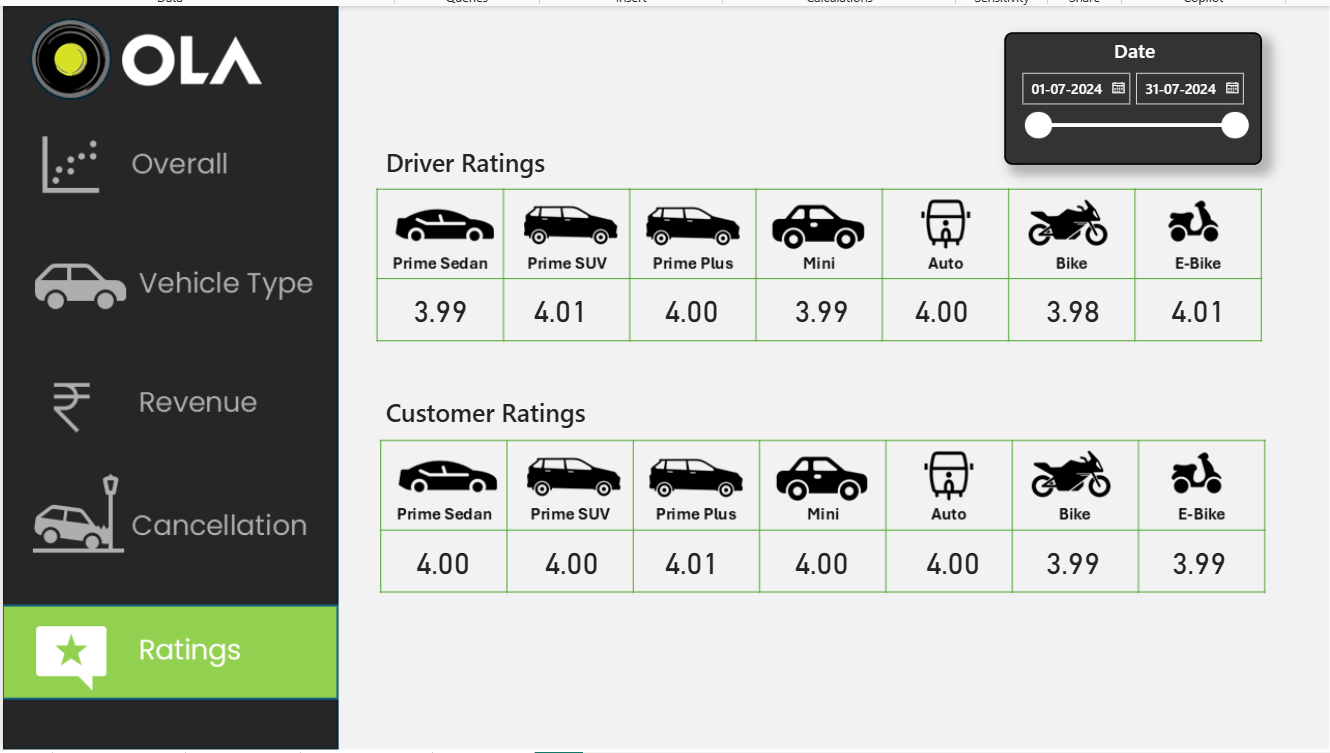

Layout of this report page (visuals, bound fields, positions):
{"tool":"powerbi","page":{"name":"Ratings","canvas":[1280,720],"ordinal":4},"visuals":[{"type":"actionButton","box":[0,577.9,322.1,92.9],"z":0},{"type":"actionButton","box":[0,441.6,322.1,101.3],"z":1000},{"type":"actionButton","box":[0,336.6,322.1,92.9],"z":2000},{"type":"actionButton","box":[1.2,216,322.1,92.9],"z":3000},{"type":"actionButton","box":[0,106.2,322.1,92.9],"z":4000},{"type":"card","fields":{"Values":["Avg(July.Driver_Ratings)"]},"box":[364.3,262.9,115.7,60],"z":5000},{"type":"card","fields":{"Values":["Avg(July.Driver_Ratings)"]},"box":[732.9,262.9,115.7,60],"z":6000},{"type":"card","fields":{"Values":["Avg(July.Driver_Ratings)"]},"box":[480,262.9,115.7,60],"z":7000},{"type":"card","fields":{"Values":["Avg(July.Driver_Ratings)"]},"box":[607.1,262.9,115.7,60],"z":8000},{"type":"card","fields":{"Values":["Avg(July.Driver_Ratings)"]},"box":[848.6,262.9,115.7,60],"z":9000},{"type":"card","fields":{"Values":["Avg(July.Driver_Ratings)"]},"box":[974.3,262.9,115.7,60],"z":10000},{"type":"card","fields":{"Values":["Avg(July.Driver_Ratings)"]},"box":[1095.7,262.9,115.7,60],"z":11000},{"type":"card","fields":{"Values":["Avg(July.Customer_Rating)"]},"box":[367.1,507.1,115.7,60],"z":12000},{"type":"card","fields":{"Values":["Avg(July.Customer_Rating)"]},"box":[491.4,507.1,115.7,60],"z":13000},{"type":"card","fields":{"Values":["Avg(July.Customer_Rating)"]},"box":[607.1,507.1,115.7,60],"z":14000},{"type":"card","fields":{"Values":["Avg(July.Customer_Rating)"]},"box":[732.9,507.1,115.7,60],"z":15000},{"type":"card","fields":{"Values":["Avg(July.Customer_Rating)"]},"box":[858.6,507.1,115.7,60],"z":16000},{"type":"card","fields":{"Values":["Avg(July.Customer_Rating)"]},"box":[974.3,507.1,115.7,60],"z":17000},{"type":"card","fields":{"Values":["Avg(July.Customer_Rating)"]},"box":[1097.1,507.1,115.7,60],"z":18000},{"type":"textbox","box":[364.3,130,167.1,47.1],"z":19000},{"type":"textbox","box":[364.3,371.4,224.3,47.1],"z":20000},{"type":"slicer","title":"Date","fields":{"Values":["July.Date"]},"box":[1018.2,25.3,248.5,127.9],"z":21000}]}

Visuals, with their boxes on the page's 1280x720 design canvas (x1, y1, x2, y2). These are canvas units, not pixel positions in the 1330x753 screenshot, which may show the page scaled, cropped or inside an application window:
actionButton: region(0, 578, 322, 671)
actionButton: region(0, 442, 322, 543)
actionButton: region(0, 337, 322, 430)
actionButton: region(1, 216, 323, 309)
actionButton: region(0, 106, 322, 199)
card - Avg(July.Driver_Ratings): region(364, 263, 480, 323)
card - Avg(July.Driver_Ratings): region(733, 263, 849, 323)
card - Avg(July.Driver_Ratings): region(480, 263, 596, 323)
card - Avg(July.Driver_Ratings): region(607, 263, 723, 323)
card - Avg(July.Driver_Ratings): region(849, 263, 964, 323)
card - Avg(July.Driver_Ratings): region(974, 263, 1090, 323)
card - Avg(July.Driver_Ratings): region(1096, 263, 1211, 323)
card - Avg(July.Customer_Rating): region(367, 507, 483, 567)
card - Avg(July.Customer_Rating): region(491, 507, 607, 567)
card - Avg(July.Customer_Rating): region(607, 507, 723, 567)
card - Avg(July.Customer_Rating): region(733, 507, 849, 567)
card - Avg(July.Customer_Rating): region(859, 507, 974, 567)
card - Avg(July.Customer_Rating): region(974, 507, 1090, 567)
card - Avg(July.Customer_Rating): region(1097, 507, 1213, 567)
textbox: region(364, 130, 531, 177)
textbox: region(364, 371, 589, 418)
"Date" slicer: region(1018, 25, 1267, 153)
